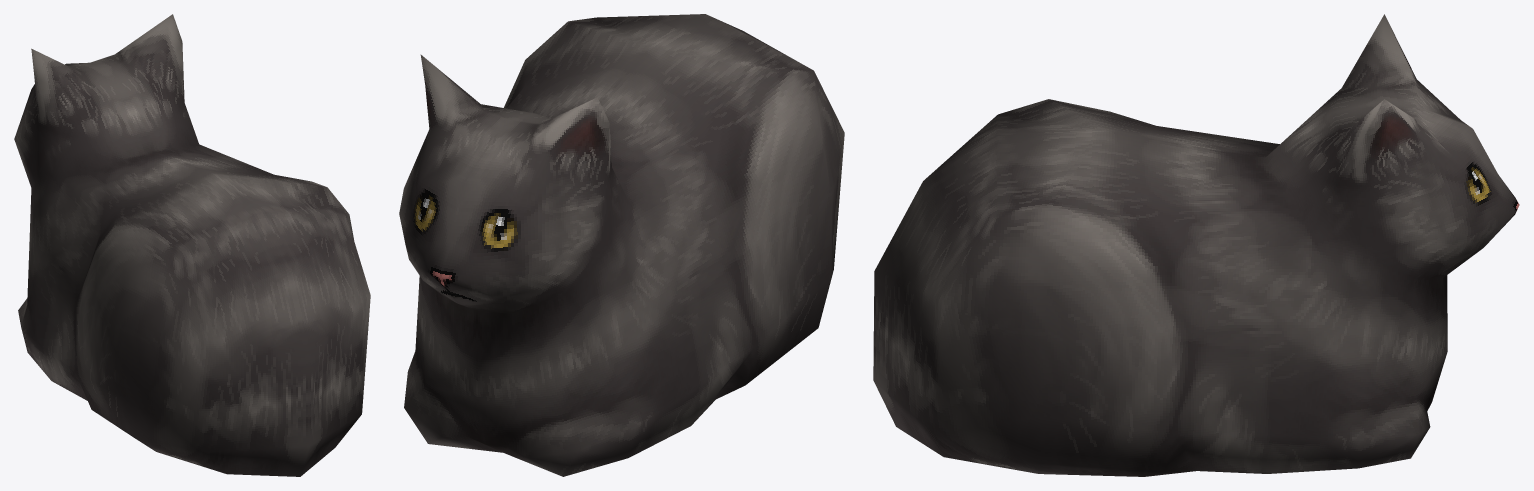
File: cat_loaf.glb
The picture shows the model from 3 angles, left to right: view 1: azimuth 30°, elevation 25°; view 2: azimuth 150°, elevation 25°; view 3: azimuth 270°, elevation 25°; orthographic projection. The views are drawn at different scales.
Visible parts, largest first — view 1: CatLoafGrey256; view 2: CatLoafGrey256; view 3: CatLoafGrey256.
Part boxes in pixels (x1,y1,x2,y2): CatLoafGrey256: (14, 14, 370, 476); CatLoafGrey256: (399, 14, 844, 476); CatLoafGrey256: (873, 14, 1519, 476).
Size of the model in its own units: 0.2077 by 0.2561 by 0.3957.
Materials: 1 (1 with a texture image).
